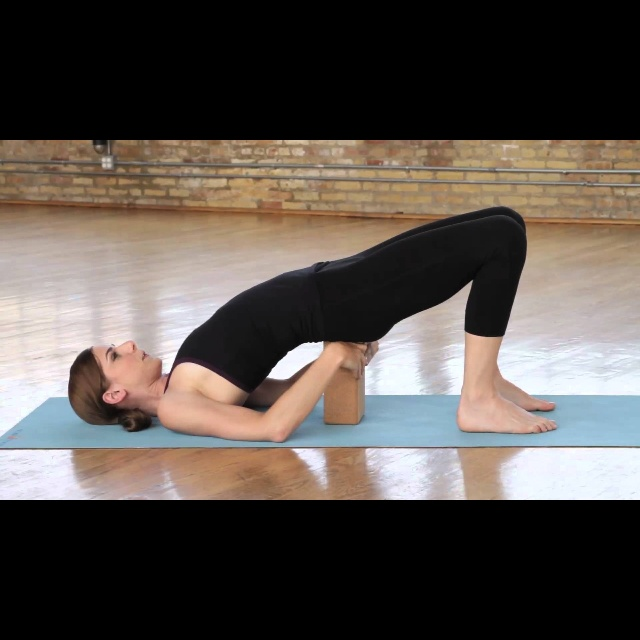Bridge_Pose: (57, 200, 560, 451)
